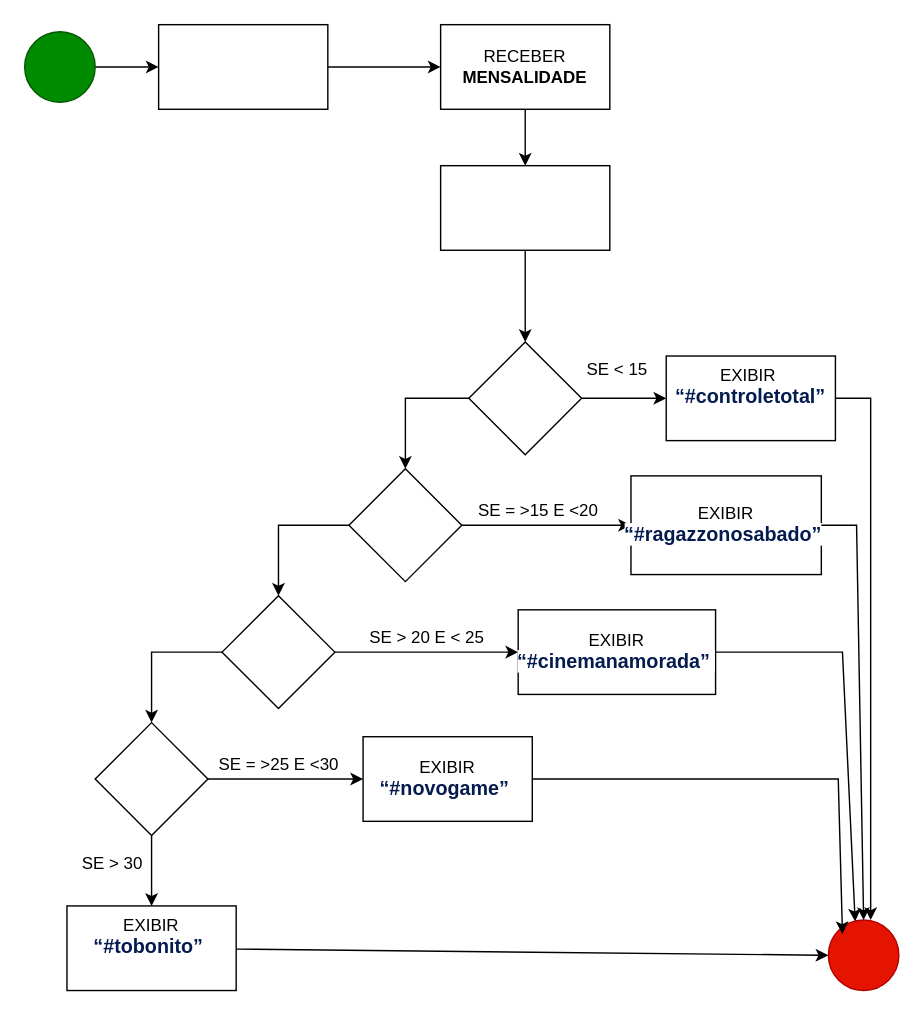
Image size: 924x1015. Some labels were removed from this diagram. Here are the shapes that lost their labels. From the top down, the centre of each, then its label:
point (242, 66): RECEBA SALÁRIO
point (524, 207): CALCULAR MÉDIA: (SALÁRIO - MENSALIDADE) / 30
